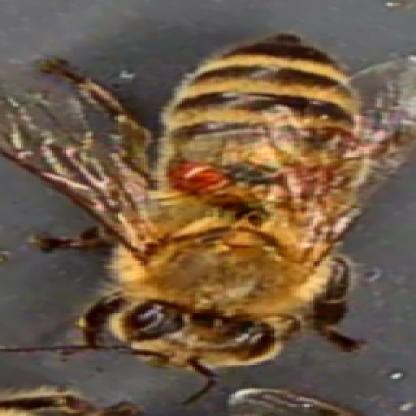bee: (118, 30, 362, 364)
vaoora: (179, 166, 218, 195)
